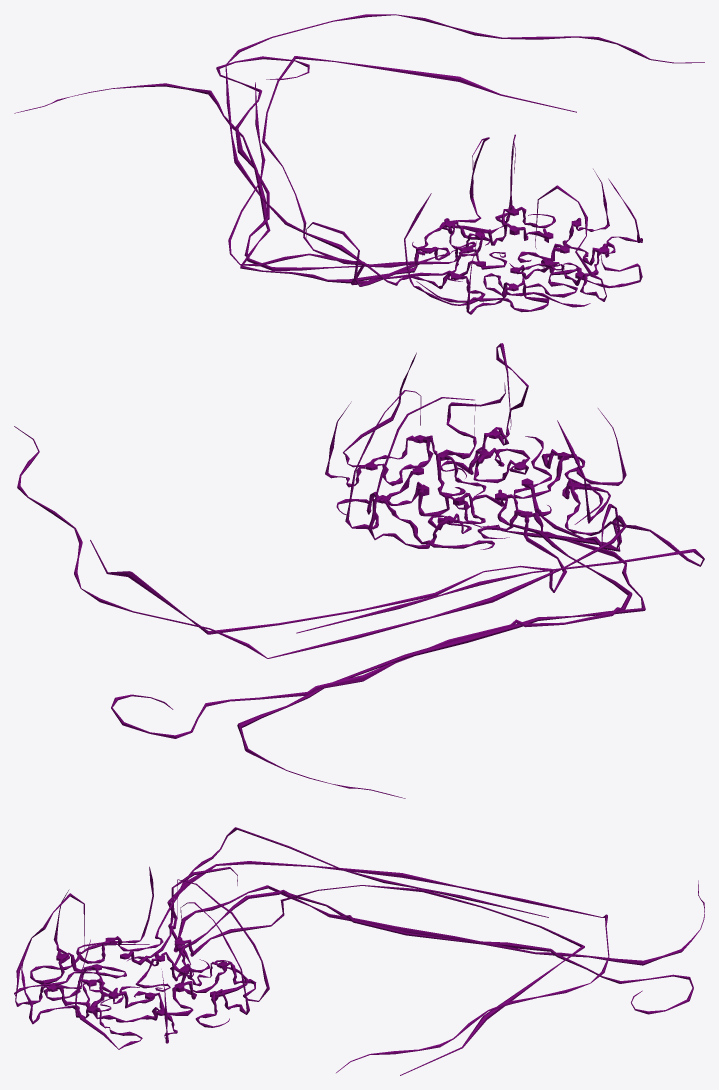
The model's file is so_raiz.fbx.
3 views of the same model, one above another, from view 1: azimuth 30°, elevation 25°; view 2: azimuth 150°, elevation 25°; view 3: azimuth 270°, elevation 25° (orthographic). The views are drawn at different scales.
Visible parts, largest first — view 1: pCylinder58; view 2: pCylinder58; view 3: pCylinder58.
Part boxes in pixels (x1,y1,x2,y2): pCylinder58: (14, 14, 704, 314); pCylinder58: (14, 343, 704, 798); pCylinder58: (14, 827, 704, 1075).
Bounding box in the file's own units: 36.23 × 7.02 × 40.67.
